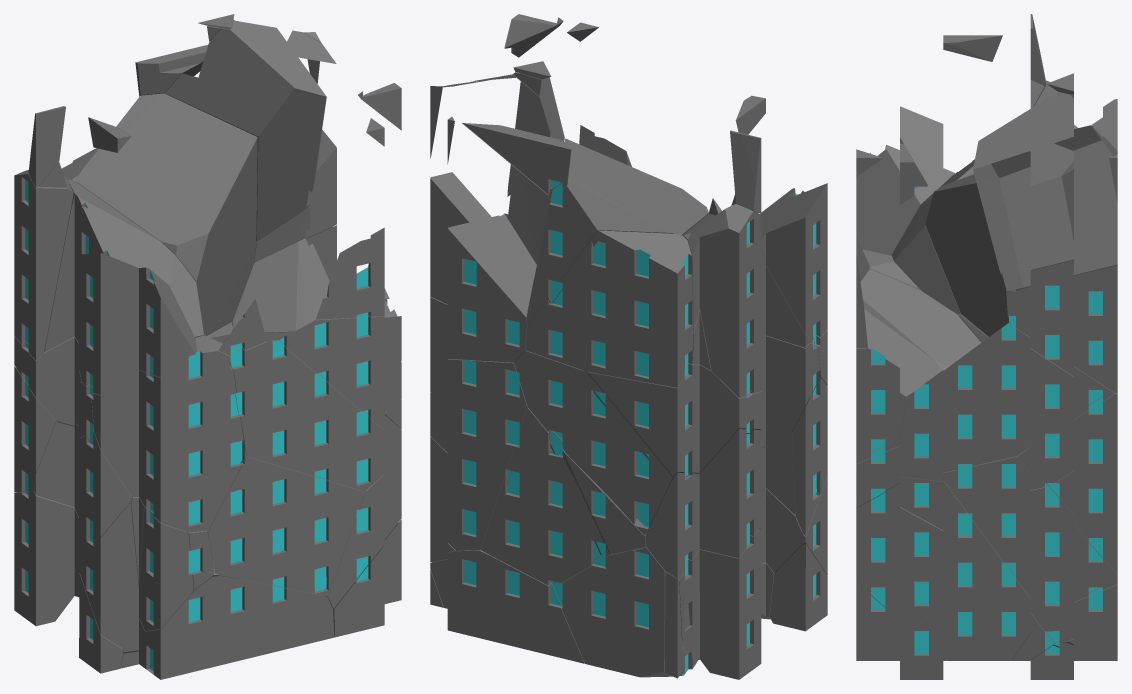
File: LLShatteredCity3.fbx
3 views of the same model, side by side, from view 1: azimuth 30°, elevation 25°; view 2: azimuth 150°, elevation 25°; view 3: azimuth 270°, elevation 25° (orthographic). The views are drawn at different scales.
Visible parts, largest first — view 1: Cube.003_cell.029, Cube.003_cell.035, Cube.003_cell.050, Cube.003_cell.025, Cube.003_cell.020, Cube.003_cell.034, Cube.003_cell.021, Cube.003_cell.046, Cube.003_cell.017, Cube.003_cell.004, Cube.003_cell.030, Cube.003_cell.055 (+17 smaller); view 2: Cube.003_cell.026, Cube.003_cell.060, Cube.003_cell.029, Cube.003_cell.033, Cube.003_cell.054, Cube.003_cell.018, Cube.003_cell.030, Cube.003_cell.062, Cube.003_cell.014, Cube.003_cell.050, Cube.003_cell.027, Cube.003_cell.055 (+19 smaller); view 3: Cube.003_cell.024, Cube.003_cell.050, Cube.003_cell.058, Cube.003_cell.056, Cube.003_cell.002, Cube.003_cell.029, Cube.003_cell.004, Cube.003_cell.020, Cube.003_cell.021, Cube.003_cell.060, Cube.003_cell.005, Cube.003_cell.027 (+11 smaller).
Boxes of the visible parts, left/top/right/bottom form: Cube.003_cell.029: left=76, top=93, right=257, bottom=335; Cube.003_cell.035: left=91, top=335, right=246, bottom=532; Cube.003_cell.050: left=165, top=20, right=336, bottom=242; Cube.003_cell.025: left=208, top=456, right=364, bottom=596; Cube.003_cell.020: left=212, top=332, right=384, bottom=491; Cube.003_cell.034: left=121, top=576, right=334, bottom=679; Cube.003_cell.021: left=79, top=252, right=195, bottom=394; Cube.003_cell.046: left=79, top=502, right=193, bottom=648; Cube.003_cell.017: left=44, top=179, right=206, bottom=381; Cube.003_cell.004: left=279, top=315, right=401, bottom=429; Cube.003_cell.030: left=14, top=170, right=73, bottom=360; Cube.003_cell.055: left=14, top=491, right=82, bottom=626; Cube.003_cell.026: left=525, top=230, right=693, bottom=387; Cube.003_cell.060: left=430, top=359, right=527, bottom=550; Cube.003_cell.029: left=526, top=138, right=708, bottom=326; Cube.003_cell.033: left=480, top=408, right=604, bottom=585; Cube.003_cell.054: left=514, top=350, right=672, bottom=535; Cube.003_cell.018: left=552, top=547, right=697, bottom=677; Cube.003_cell.030: left=687, top=203, right=761, bottom=398; Cube.003_cell.062: left=645, top=429, right=761, bottom=579; Cube.003_cell.014: left=583, top=363, right=761, bottom=483; Cube.003_cell.050: left=430, top=74, right=564, bottom=316; Cube.003_cell.027: left=430, top=550, right=584, bottom=663; Cube.003_cell.055: left=675, top=528, right=761, bottom=679; Cube.003_cell.024: left=900, top=322, right=1114, bottom=489; Cube.003_cell.050: left=973, top=92, right=1117, bottom=292; Cube.003_cell.058: left=856, top=481, right=1053, bottom=660; Cube.003_cell.056: left=943, top=456, right=1117, bottom=642; Cube.003_cell.002: left=1006, top=260, right=1117, bottom=393; Cube.003_cell.029: left=925, top=155, right=1113, bottom=336; Cube.003_cell.004: left=856, top=300, right=941, bottom=463; Cube.003_cell.020: left=856, top=269, right=981, bottom=508; Cube.003_cell.021: left=856, top=106, right=955, bottom=255; Cube.003_cell.060: left=1015, top=392, right=1117, bottom=574; Cube.003_cell.005: left=856, top=580, right=945, bottom=679; Cube.003_cell.027: left=1011, top=584, right=1117, bottom=660.
Size of the model in its own units: 129 by 222 by 96.
